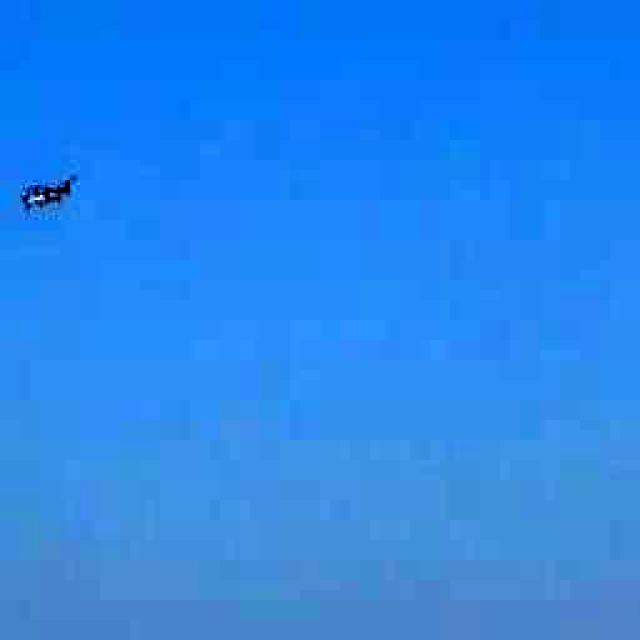bird: (0, 150, 118, 230)
